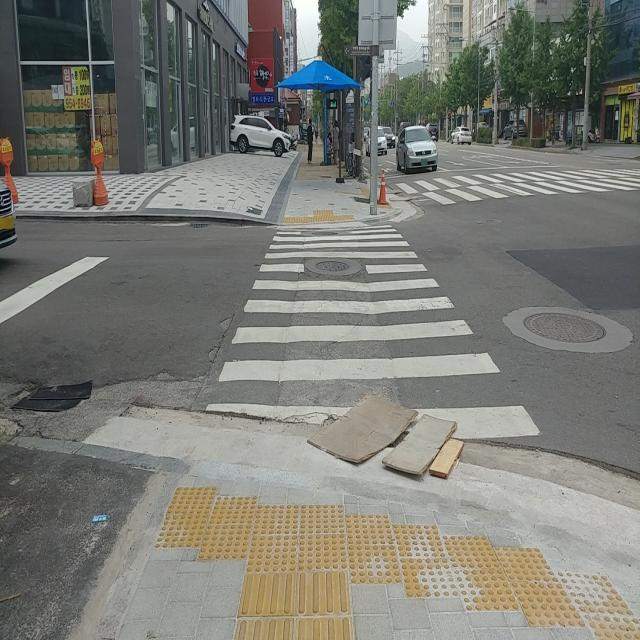횡단보도: (206, 223, 542, 443), (397, 155, 640, 209)
